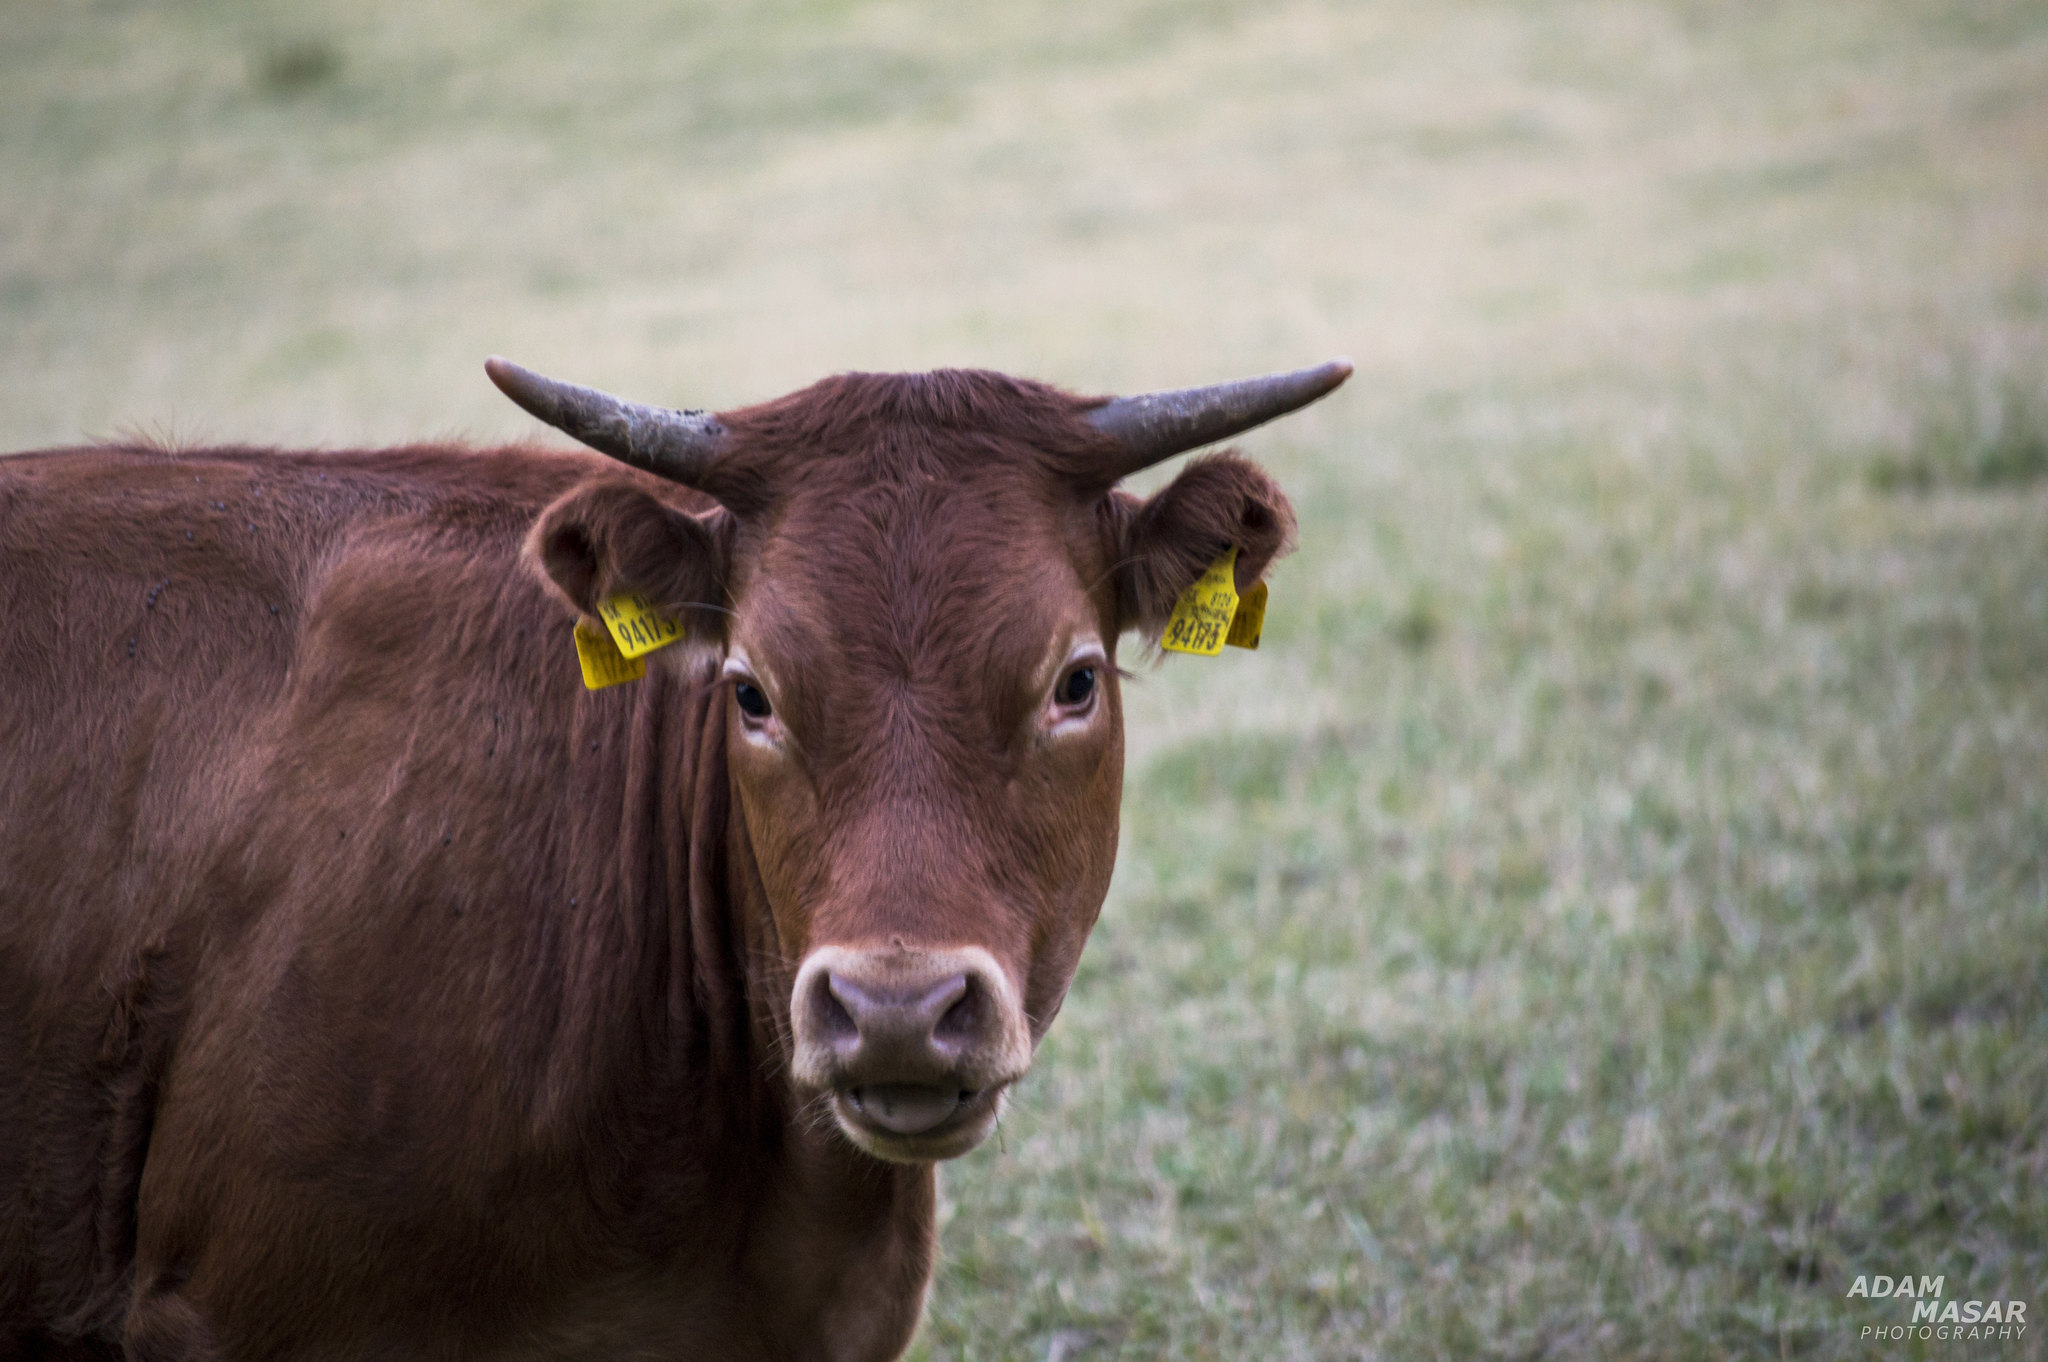cow: (2, 337, 1363, 1357)
